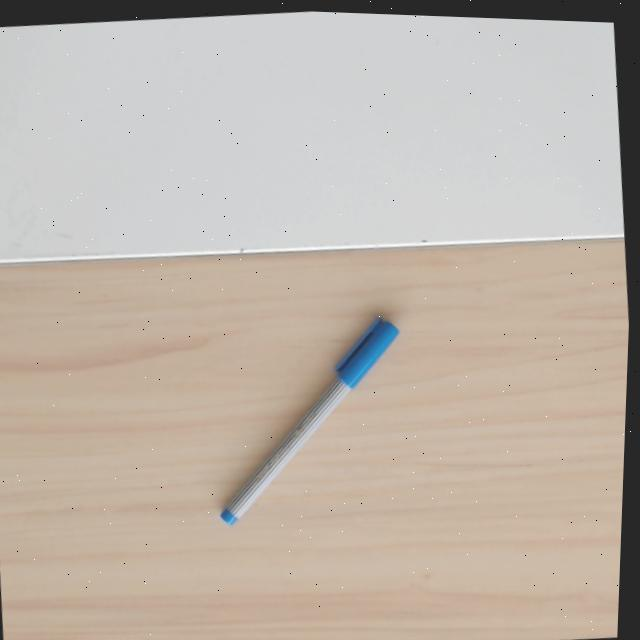Pulpen-Garis-Biru: (213, 313, 401, 531)
